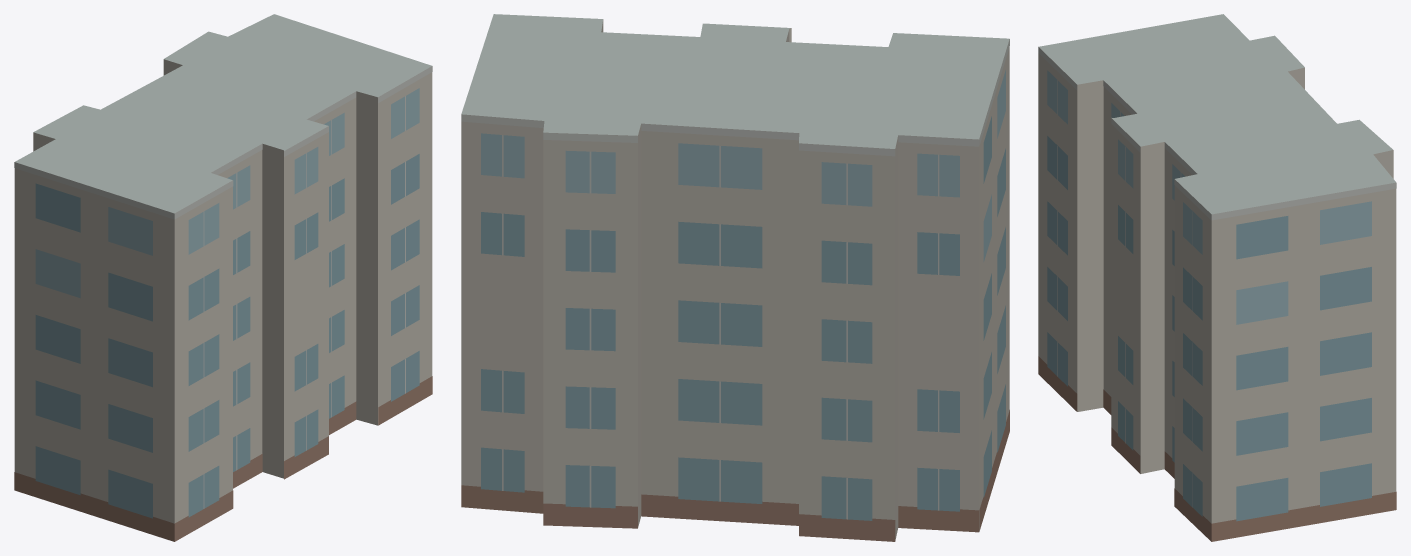
File: survey-upis-32999236.glb
The picture shows the model from 3 angles, left to right: view 1: azimuth 30°, elevation 25°; view 2: azimuth 150°, elevation 25°; view 3: azimuth 270°, elevation 25°; orthographic projection. The views are drawn at different scales.
Parts seen in each view (by area): view 1: survey-upis-32999236.tmp; view 2: survey-upis-32999236.tmp; view 3: survey-upis-32999236.tmp.
Part boxes in pixels (<box>): survey-upis-32999236.tmp: <box>14,14,432,541</box>; survey-upis-32999236.tmp: <box>461,14,1009,541</box>; survey-upis-32999236.tmp: <box>1038,14,1396,541</box>.
Bounding box in the file's own units: 17.34 × 13.2 × 13.09.
